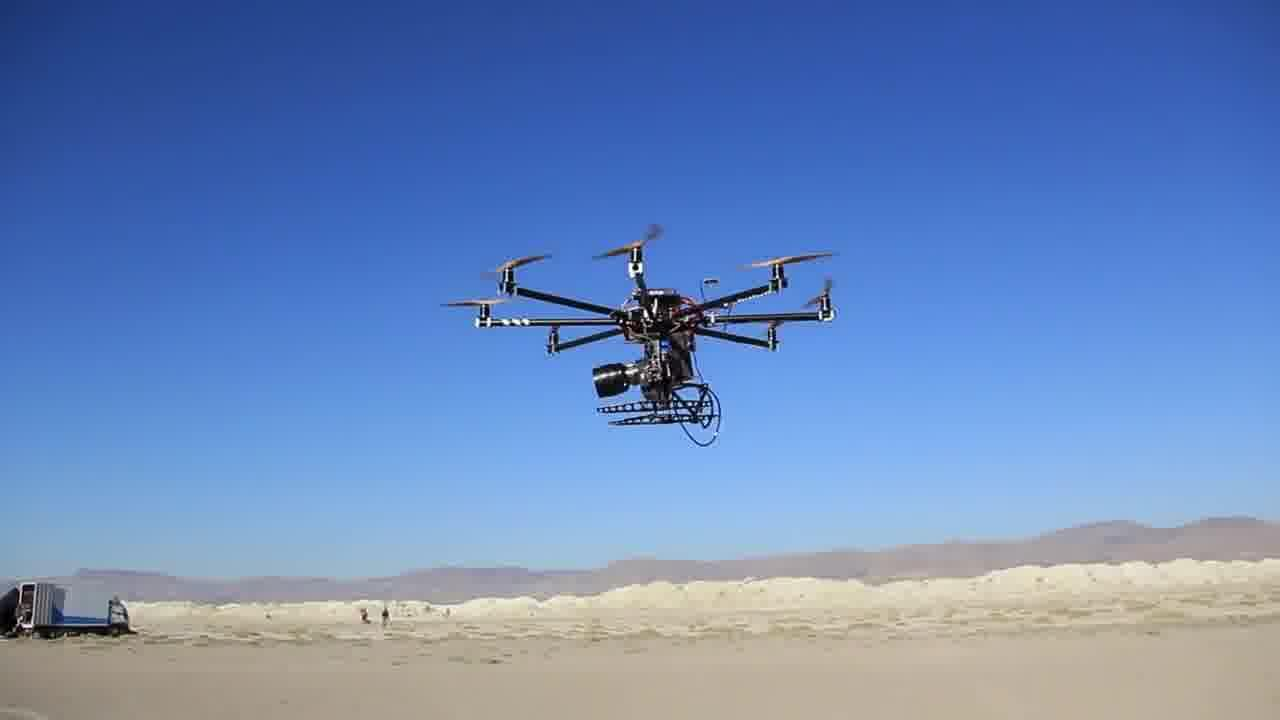drone: (467, 216, 852, 441)
